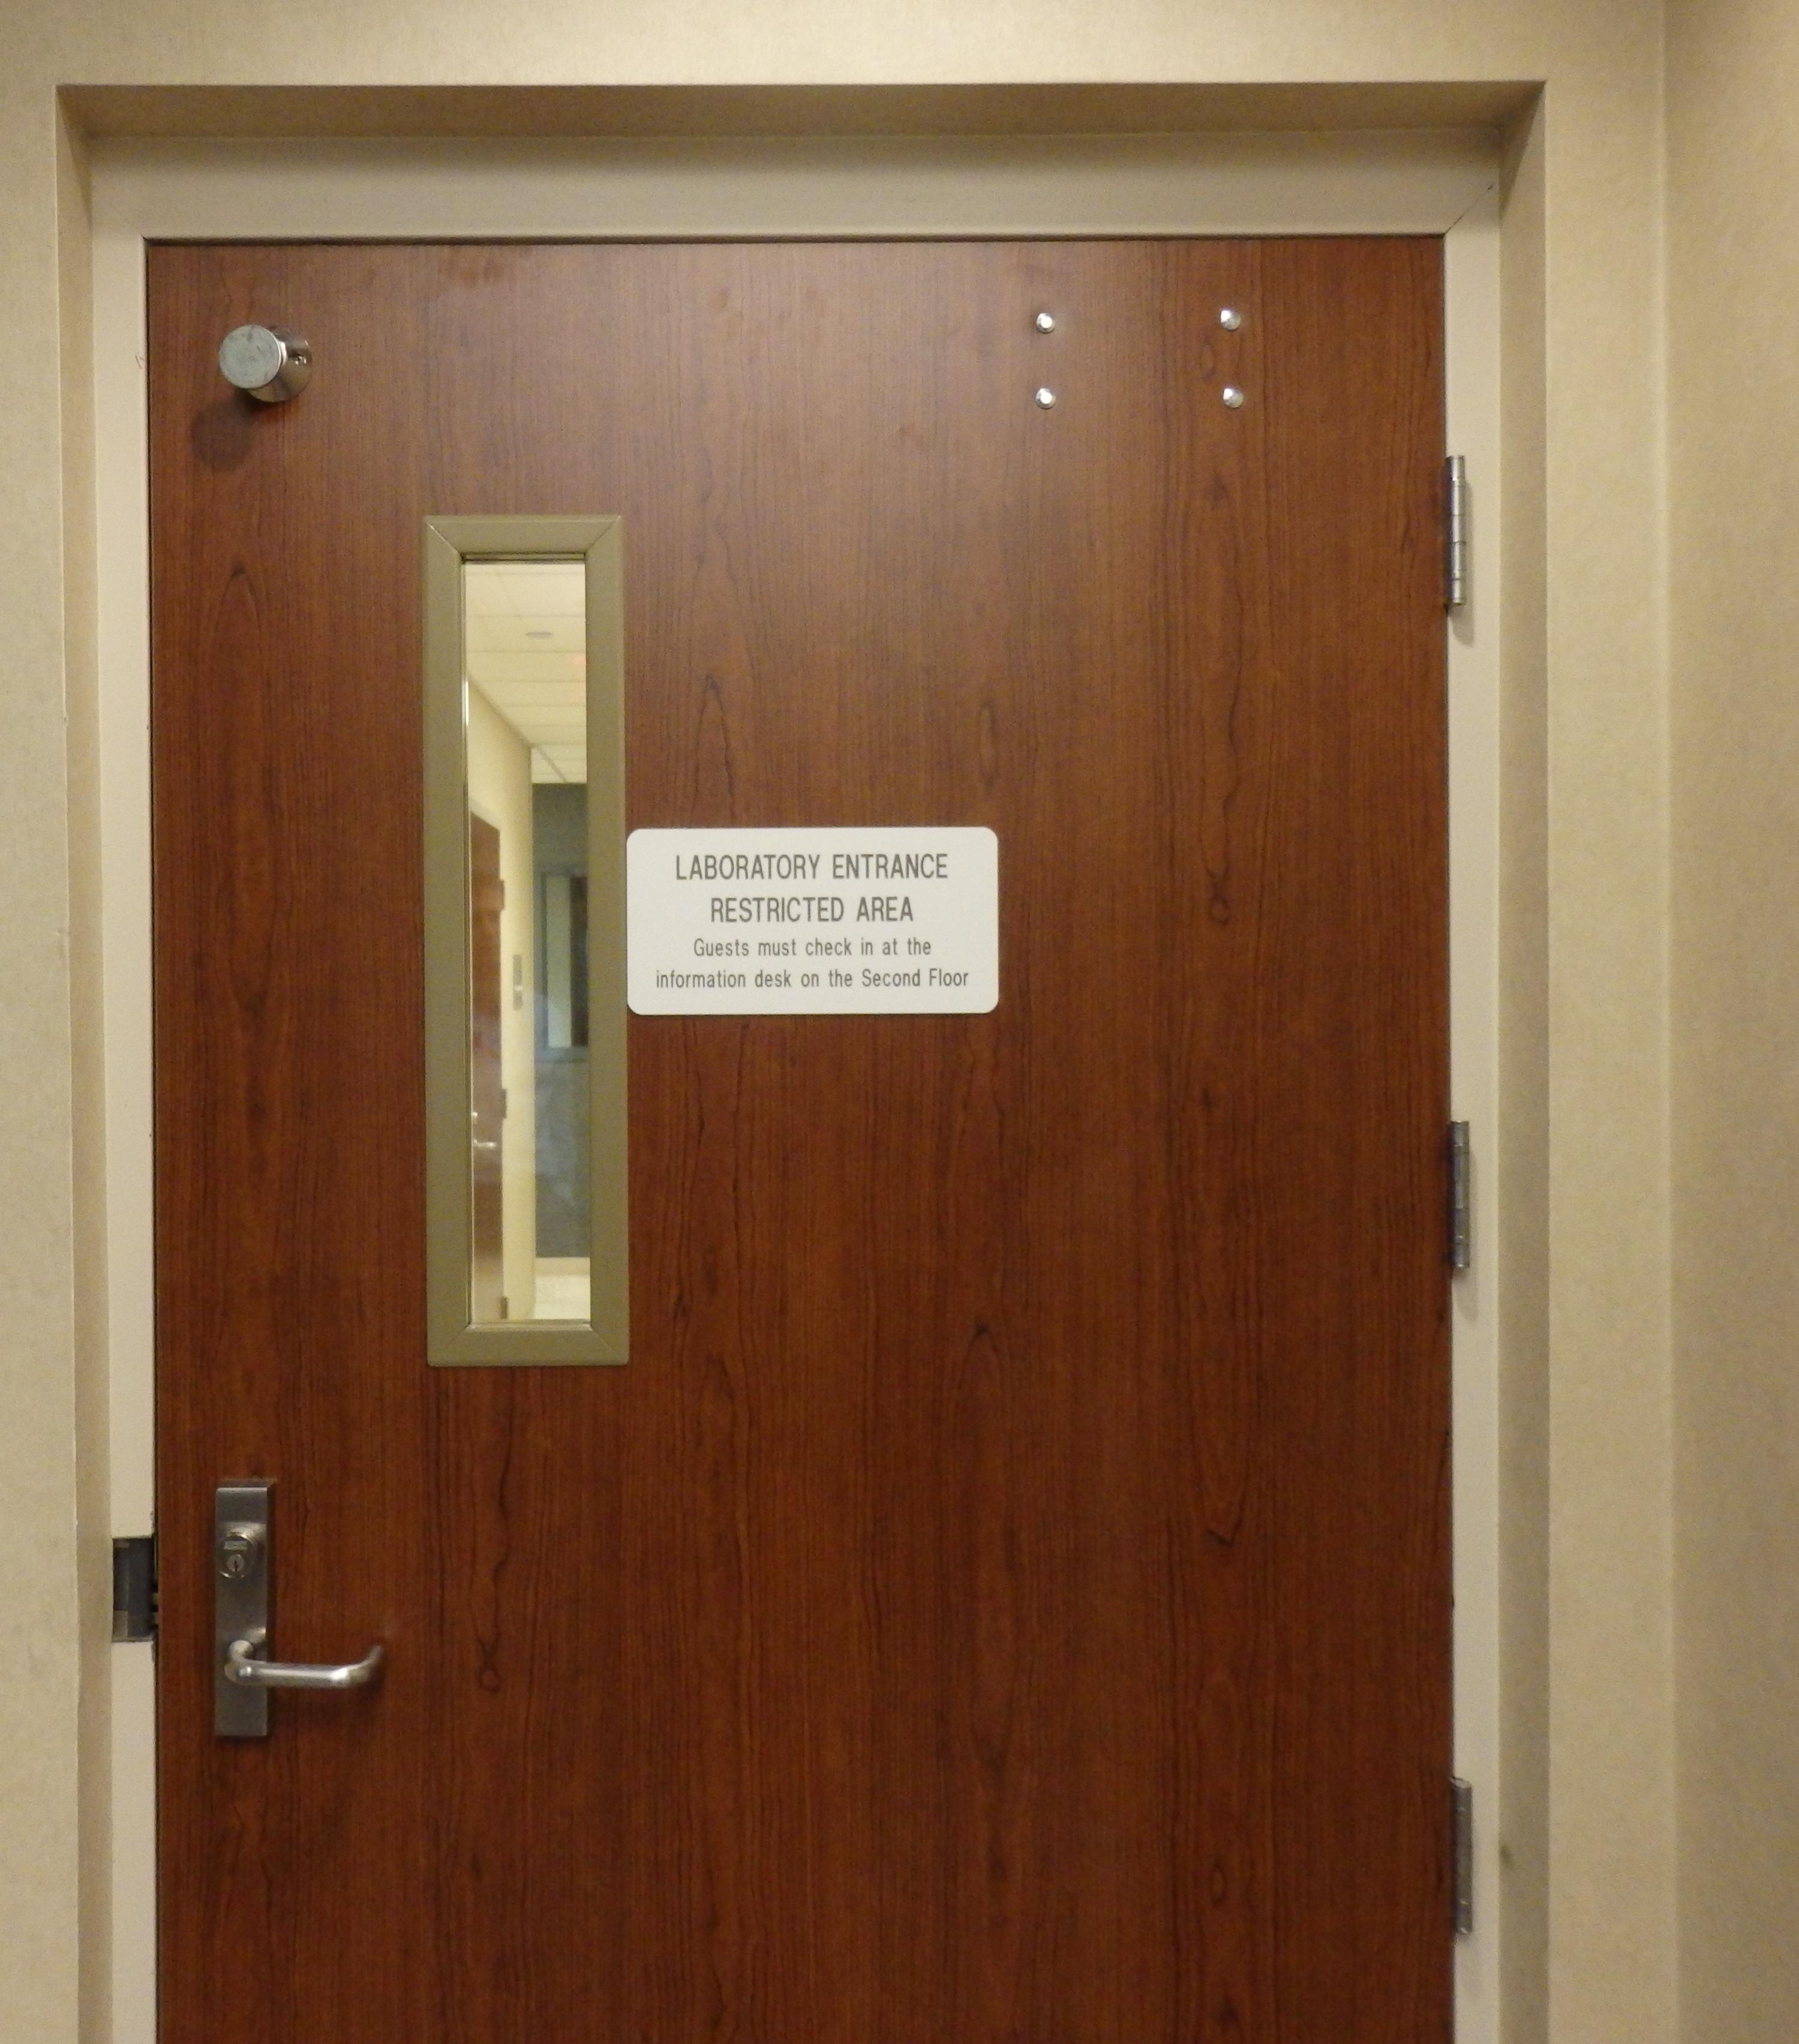door: (116, 202, 1481, 2030)
